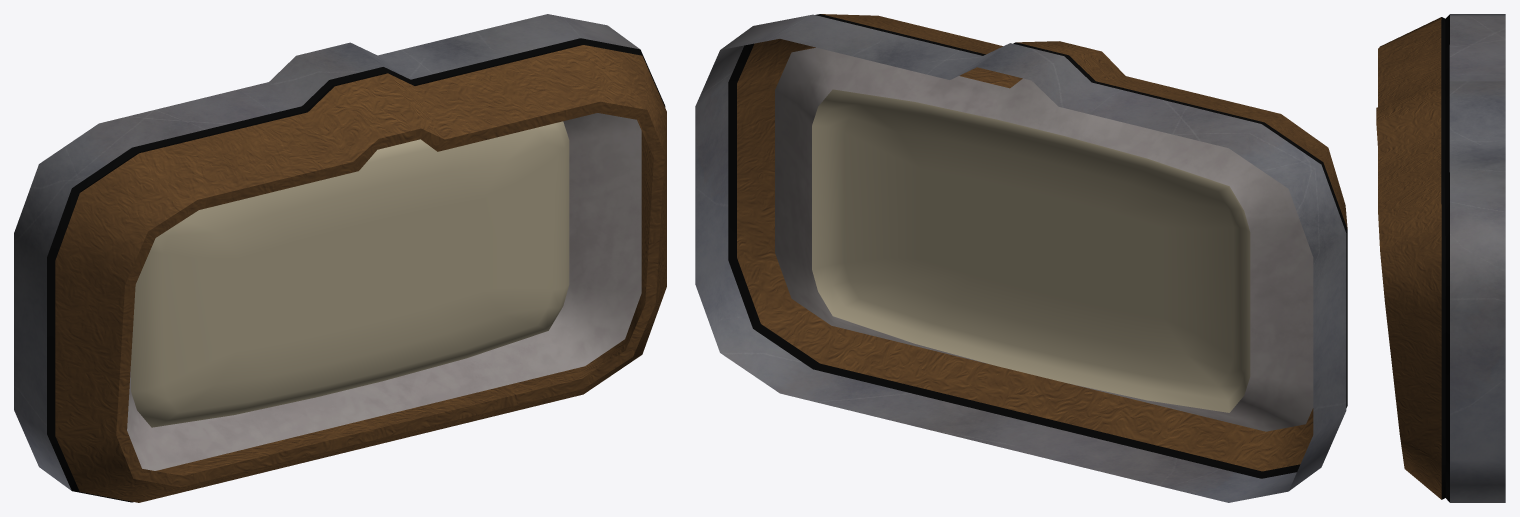
The model's file is HeistConsole.fbx.
The picture shows the model from 3 angles, left to right: view 1: azimuth 30°, elevation 25°; view 2: azimuth 150°, elevation 25°; view 3: azimuth 270°, elevation 25°; orthographic projection. The views are drawn at different scales.
Visible parts, largest first — view 1: Console; view 2: Console; view 3: Console.
Boxes of the visible parts, left/top/right/bottom form: Console: left=14, top=14, right=666, bottom=502; Console: left=695, top=14, right=1347, bottom=502; Console: left=1376, top=14, right=1505, bottom=502.
Size of the model in its own units: 52.54 by 30.41 by 11.27.
5 materials, 3 textured.
